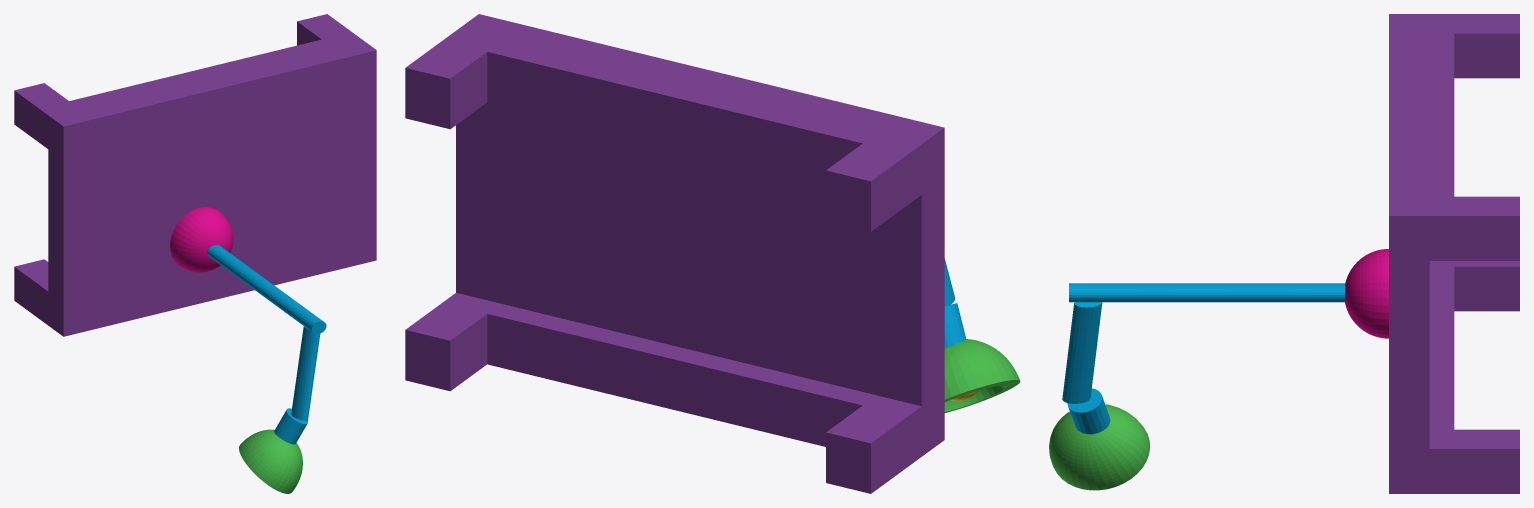
Rendered from tinker.obj.
The picture shows the model from 3 angles, left to right: view 1: azimuth 30°, elevation 25°; view 2: azimuth 150°, elevation 25°; view 3: azimuth 270°, elevation 25°; orthographic projection. The views are drawn at different scales.
Parts seen in each view (by area): view 1: group_0_8273816, group_0_40919, group_0_14093196, group_0_4634441; view 2: group_0_8273816, group_0_4634441, group_0_40919; view 3: group_0_8273816, group_0_40919, group_0_4634441, group_0_14093196.
Part boxes in pixels (x1,y1,x2,y2): group_0_8273816: (14, 14, 376, 336); group_0_40919: (207, 245, 326, 444); group_0_14093196: (170, 207, 233, 272); group_0_4634441: (239, 429, 302, 493); group_0_8273816: (405, 14, 944, 493); group_0_4634441: (944, 339, 1020, 412); group_0_40919: (944, 258, 966, 347); group_0_8273816: (1389, 14, 1519, 493); group_0_40919: (1062, 283, 1345, 434); group_0_4634441: (1049, 404, 1150, 490); group_0_14093196: (1345, 249, 1388, 338).
Size of the model in its own units: 106 by 98.36 by 104.
